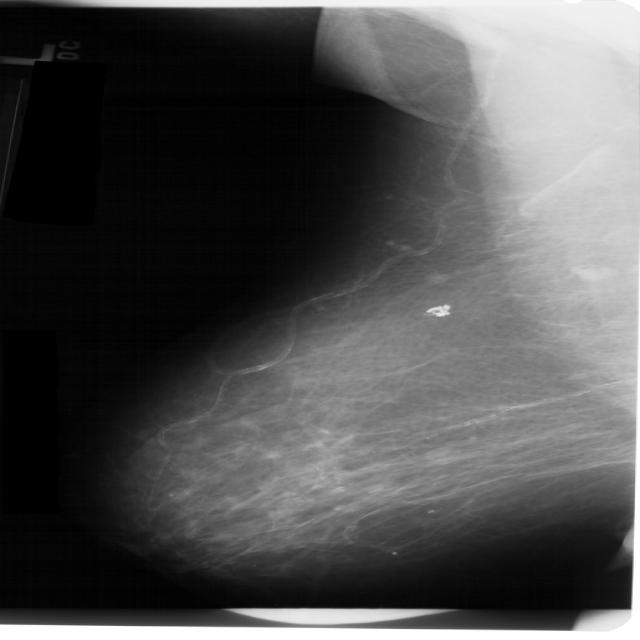tumour: (422, 444, 460, 462)
